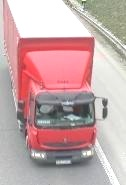truck: (3, 0, 108, 166)
